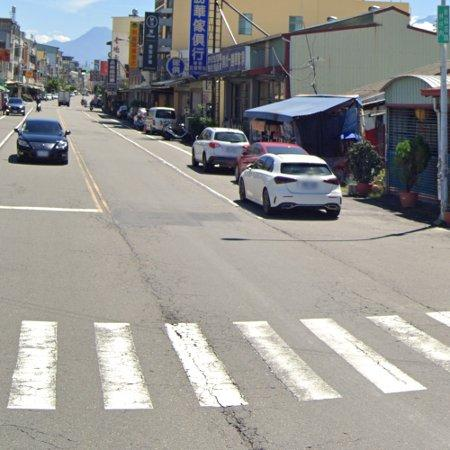crosswalks: (3, 308, 450, 415)
